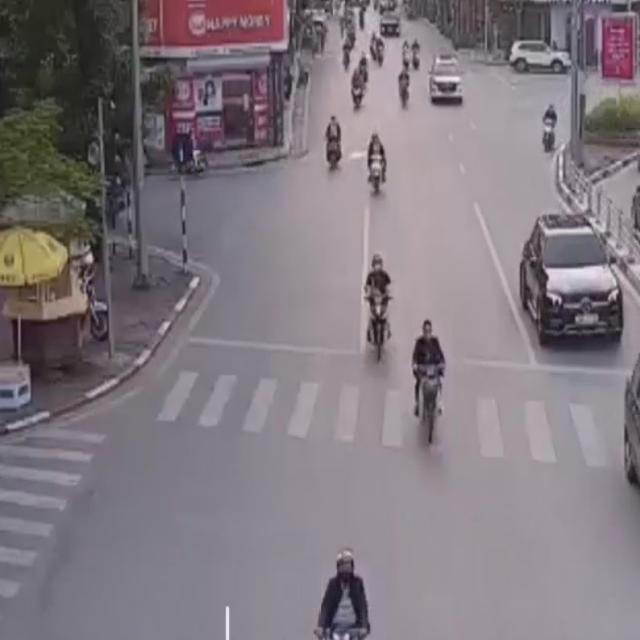car: (513, 209, 629, 353), (619, 351, 640, 502), (427, 48, 468, 110)
motorbike: (308, 545, 376, 640), (406, 316, 450, 448), (360, 248, 394, 369), (322, 113, 346, 178), (366, 128, 388, 198), (538, 99, 562, 159), (395, 68, 413, 112), (347, 66, 364, 111)
